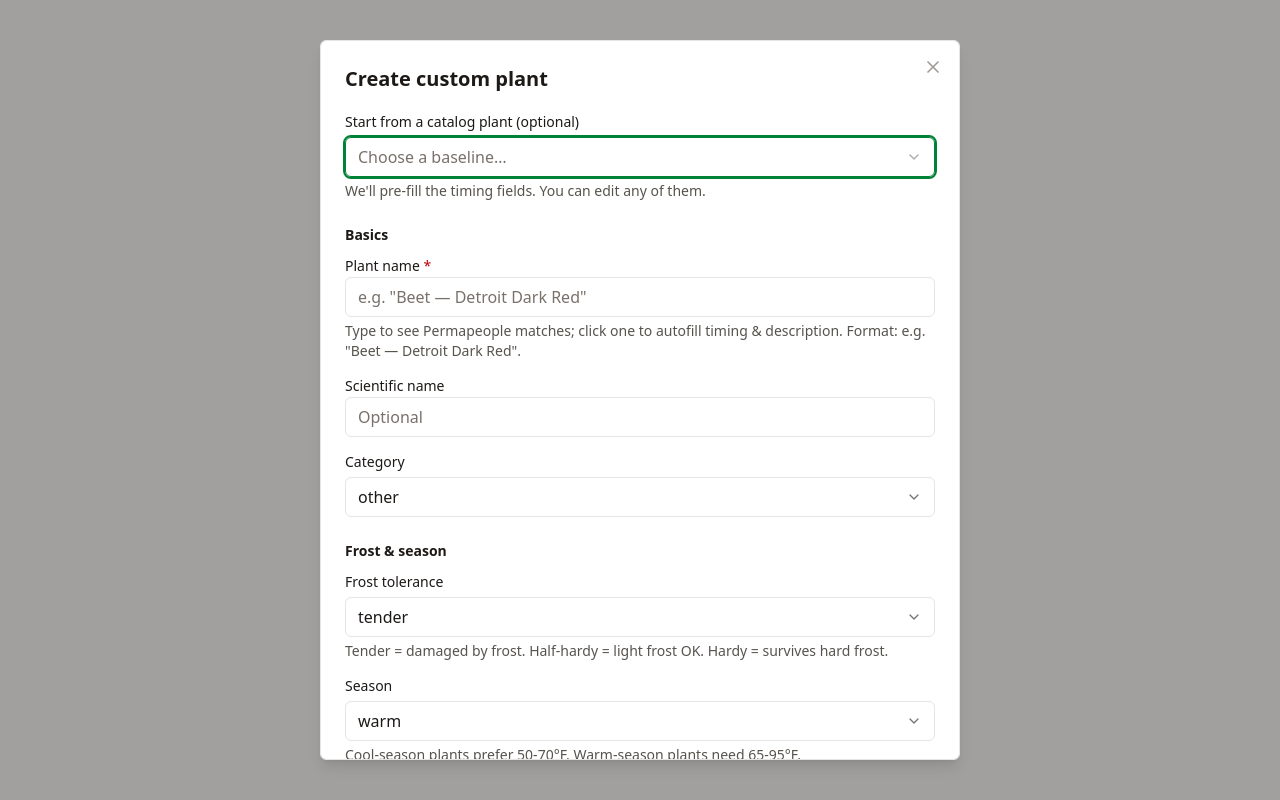
Test case: CustomPlantModal › Permapeople enrich populates a "Permapeople found" preview block (success path)
The image size is (1280, 800).
In the field labelled "Plant name *": (640, 297) [345,277,935,317], type "Tomato"
(page scrolled)
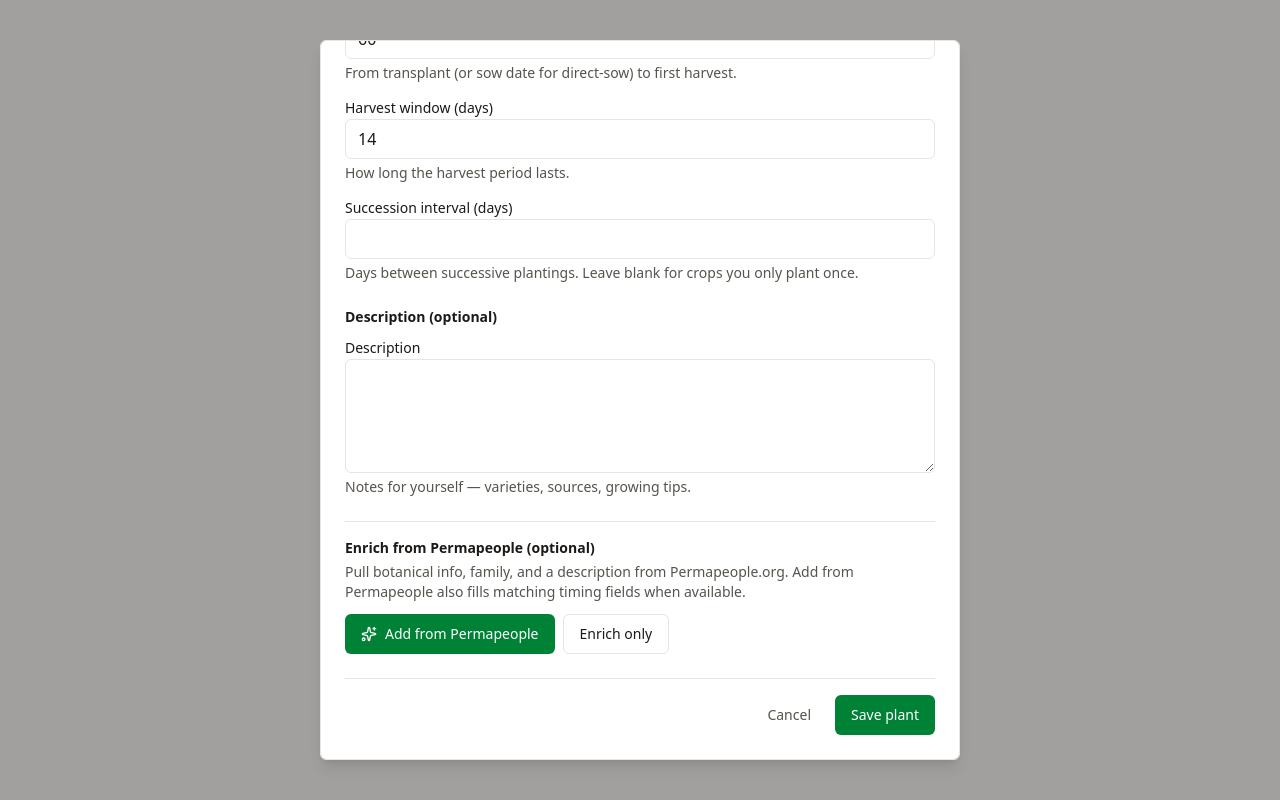
Click the button "Enrich only": click(616, 634) [562,614,669,654]
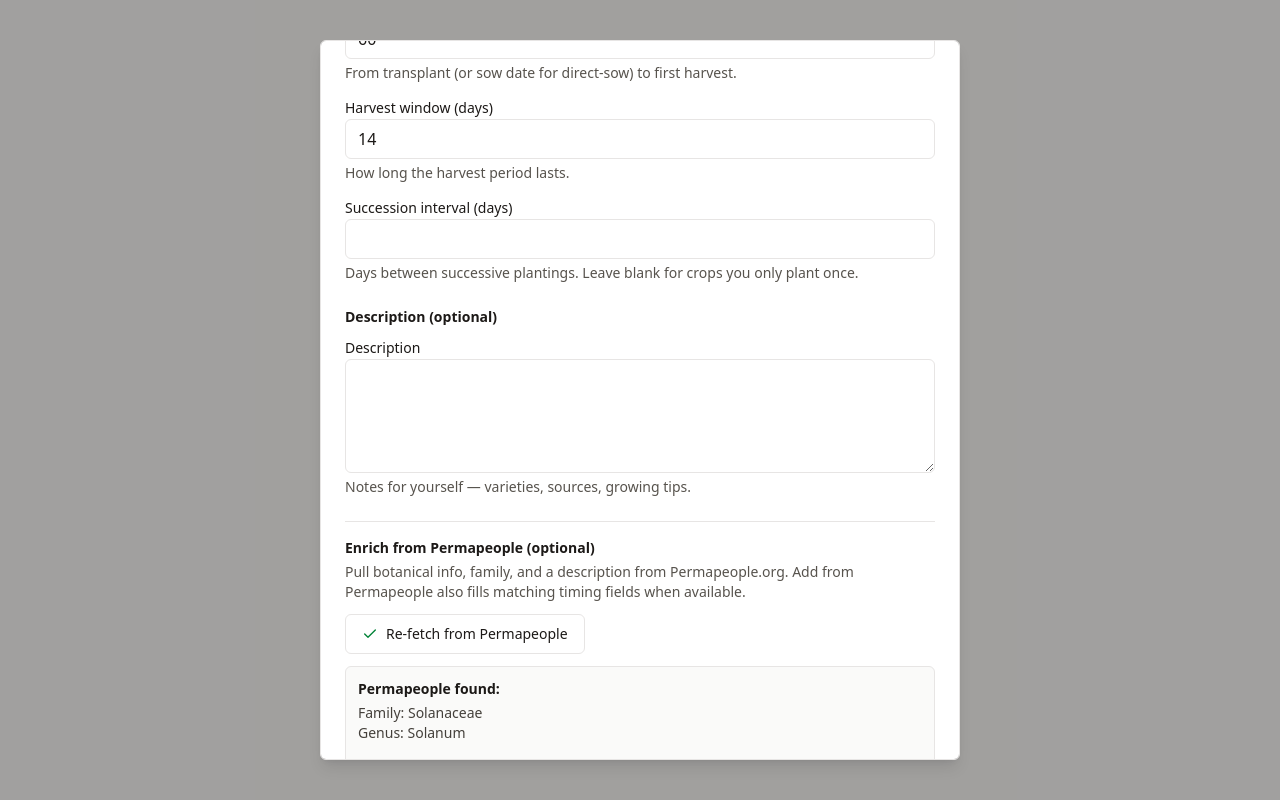
Result: the text "Permapeople found:" is shown at [358,679,500,698]
Result: the text "Family: Solanaceae" is shown at [358,703,482,722]
Result: the text "Genus: Solanum" is shown at [358,723,466,742]
